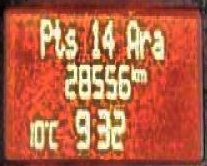0: (34, 115, 44, 149)
1: (89, 16, 100, 56), (28, 118, 32, 153)
2: (110, 109, 124, 149), (63, 62, 76, 97)
3: (96, 104, 110, 149)
4: (101, 15, 115, 53)
5: (90, 60, 104, 100), (103, 60, 116, 98)
6: (116, 60, 130, 98)
8: (76, 60, 88, 98)
9: (73, 102, 88, 151)
X: (38, 16, 52, 56), (124, 18, 137, 58), (151, 26, 165, 62), (63, 24, 77, 58), (137, 24, 151, 58), (52, 16, 63, 58), (49, 115, 59, 149), (136, 66, 146, 82), (130, 62, 136, 82)
